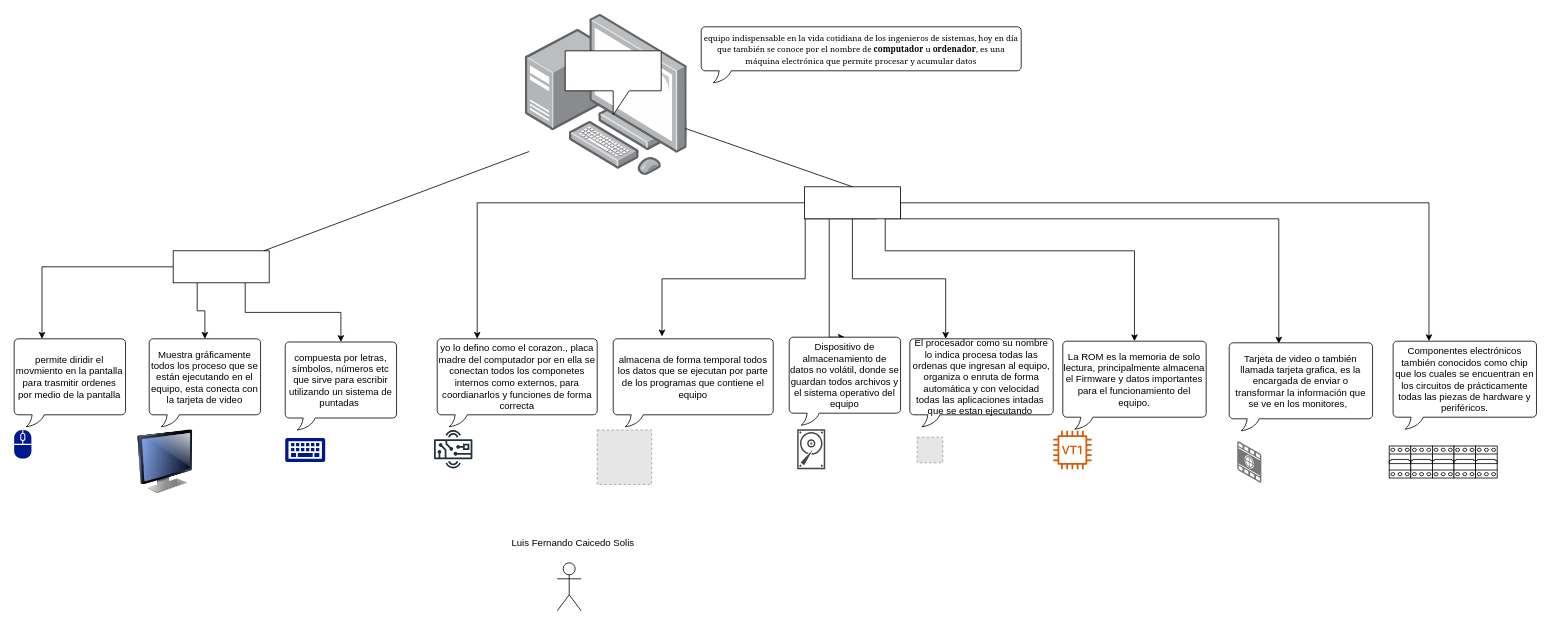
Some shapes in this 1550 by 642 pixel diagram are drawn without their labels. Grey dashed boxes stand in for pictures. The shapes that lost their labels are listed below. From the top down, each one's centre as x and y in pixels, then its label:
At point 612,82: "Estoy compuesto de Hardware y Software".
At point 852,202: "componentes internos".
At point 220,266: "componentes externos".
At point 452,448: "Hardware board".
At point 568,586: "Actor".
